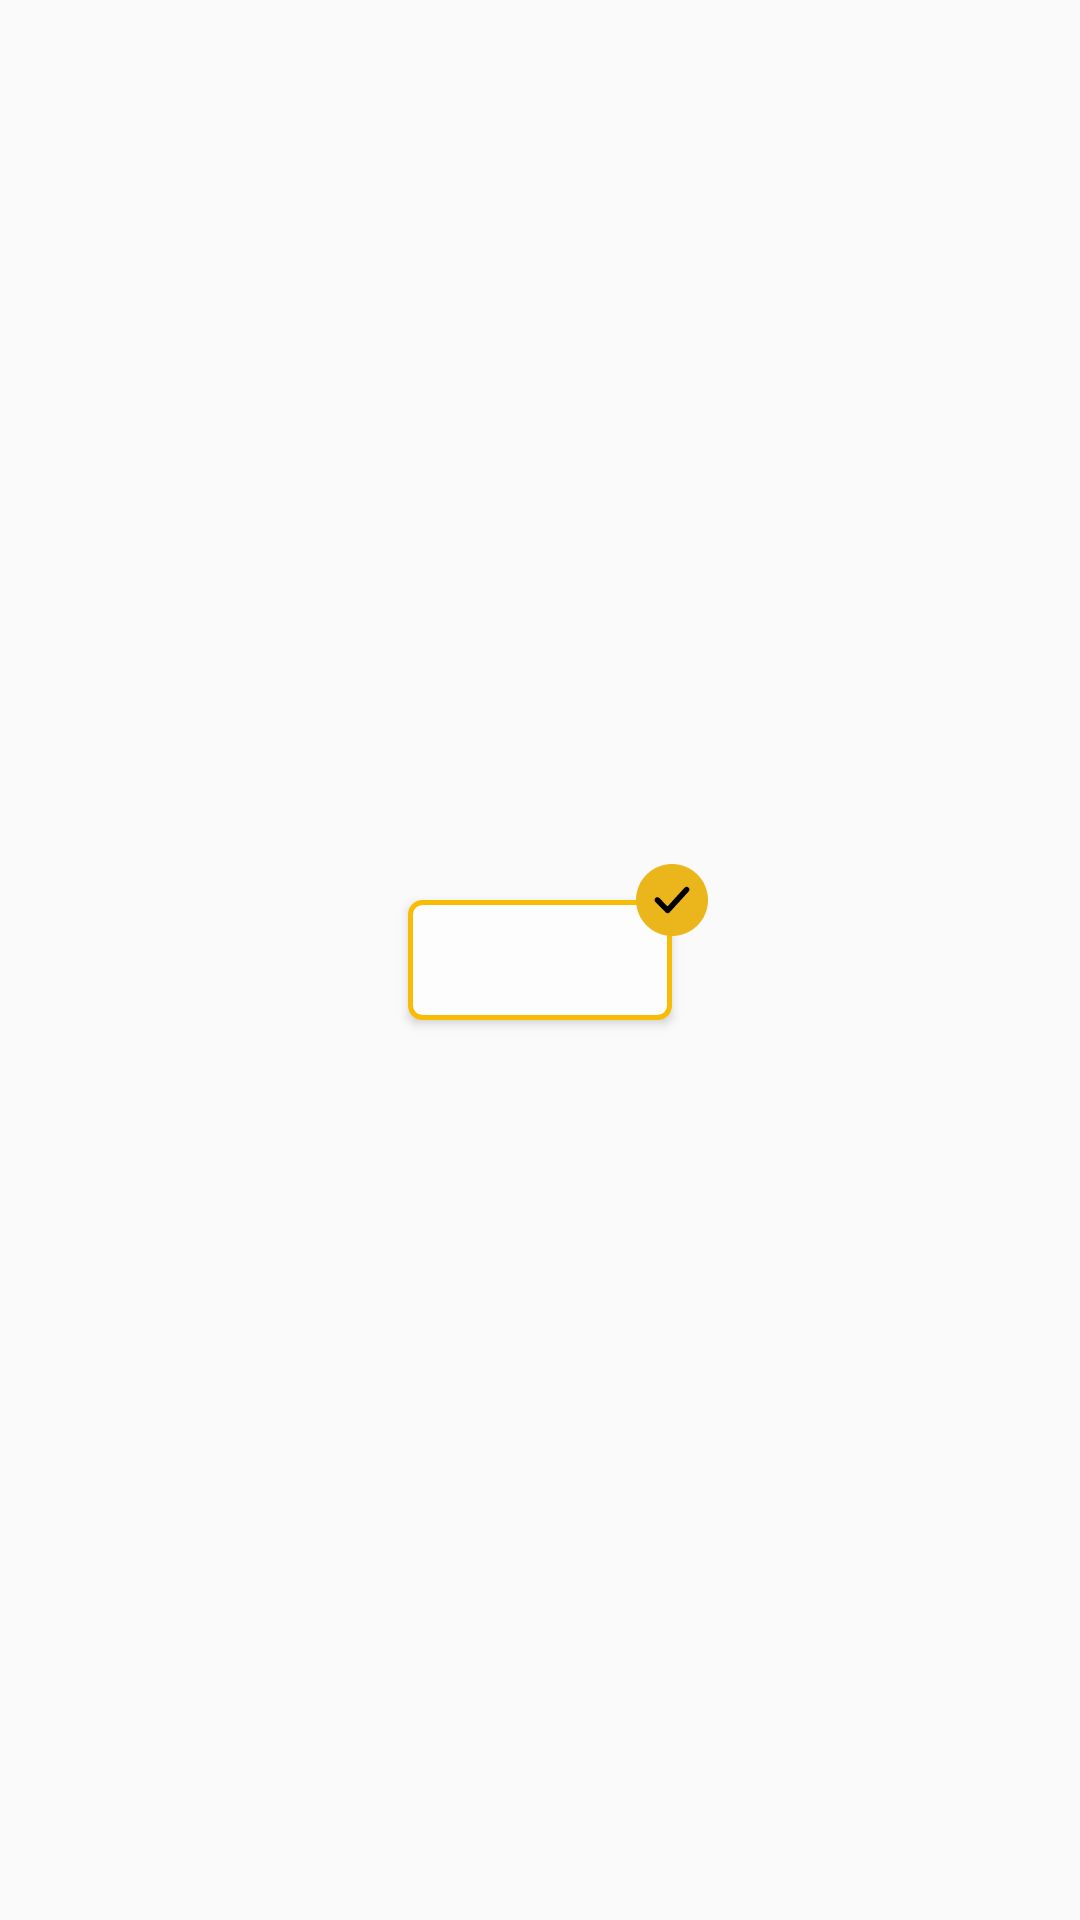

Icons on this 1080px×1920px Android screen, each with the point to tap as (x=x, y=y):
tick: (x=672, y=900)
